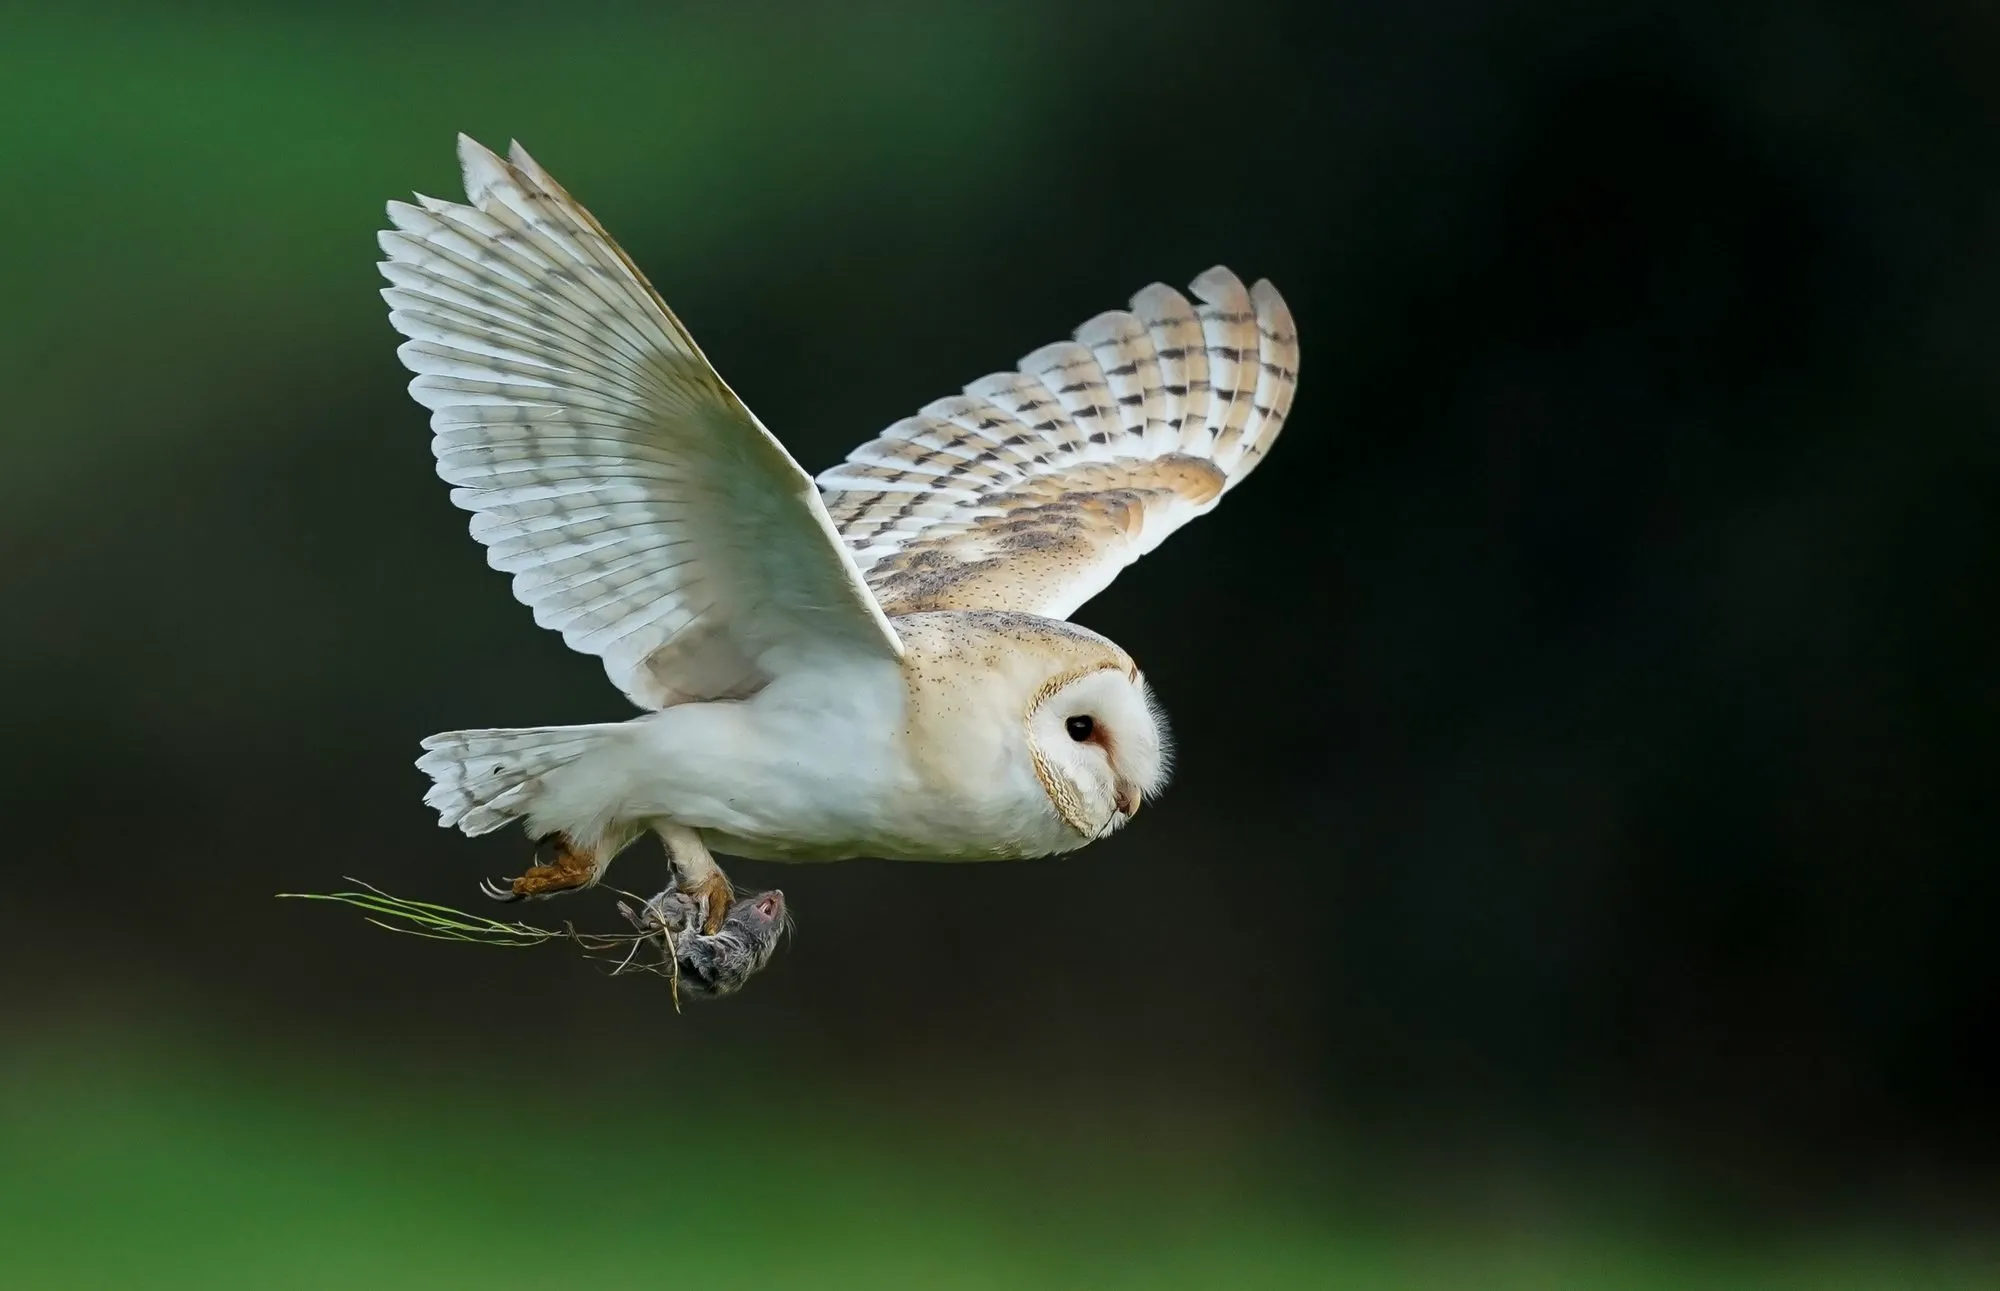owl: (363, 109, 1309, 877)
